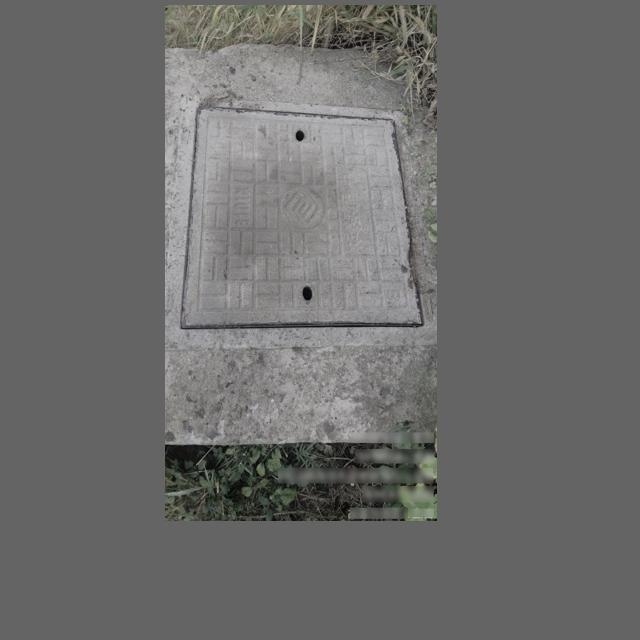good: (165, 99, 435, 351)
